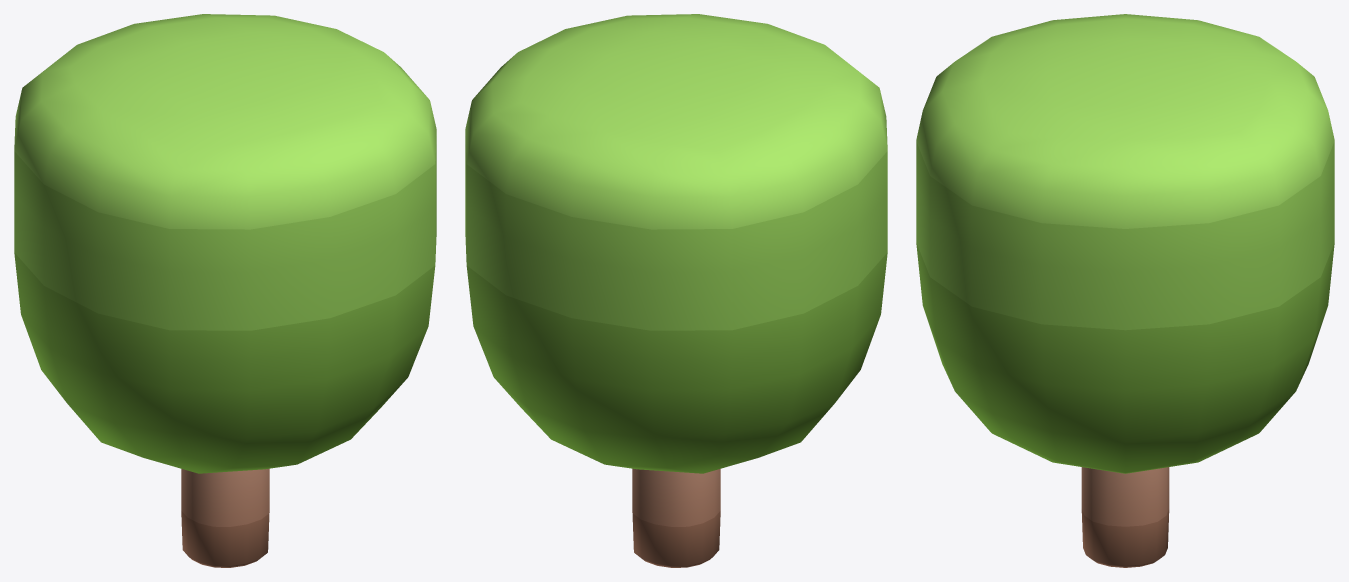
The model's file is tree_8.fbx.
3 renders of one model, left to right at view 1: azimuth 30°, elevation 25°; view 2: azimuth 150°, elevation 25°; view 3: azimuth 270°, elevation 25°, orthographic.
Parts seen in each view (by area): view 1: tree_8; view 2: tree_8; view 3: tree_8.
Boxes of the visible parts, x1,y1,x2,y2 form: tree_8: [14, 14, 436, 567]; tree_8: [465, 14, 887, 567]; tree_8: [916, 14, 1334, 567].
Bounding box in the file's own units: 188 × 240 × 188.
